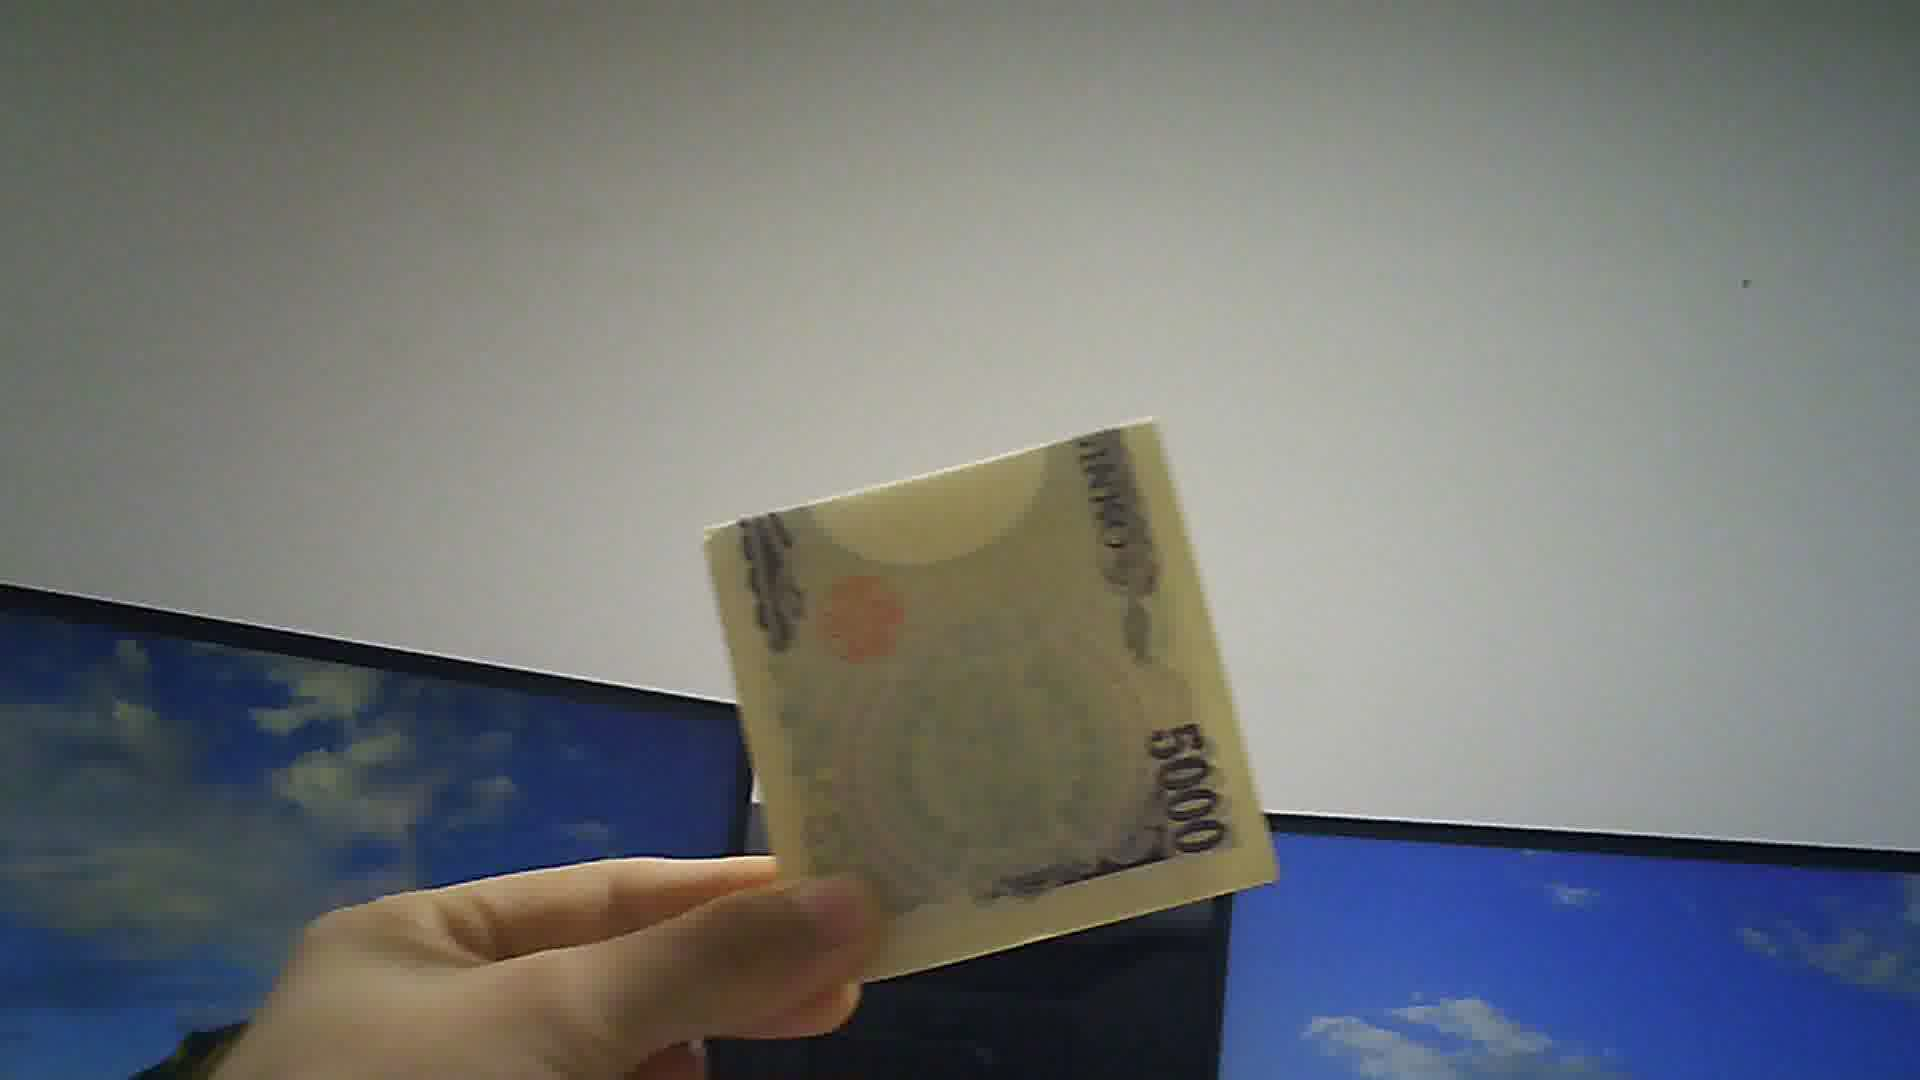5,000 Yen: (694, 401, 1288, 968)
